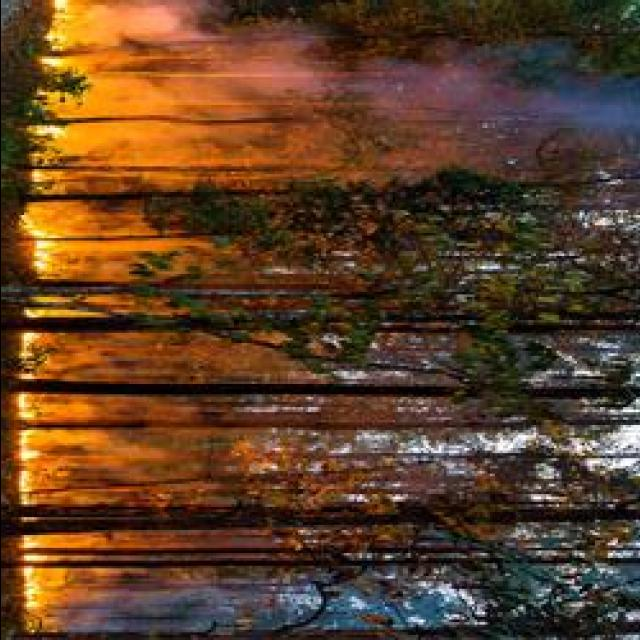fire: (33, 242, 56, 274), (15, 469, 38, 499), (16, 436, 38, 460)
smoke: (536, 36, 634, 142), (241, 46, 319, 88), (54, 432, 156, 464), (102, 0, 185, 39)
